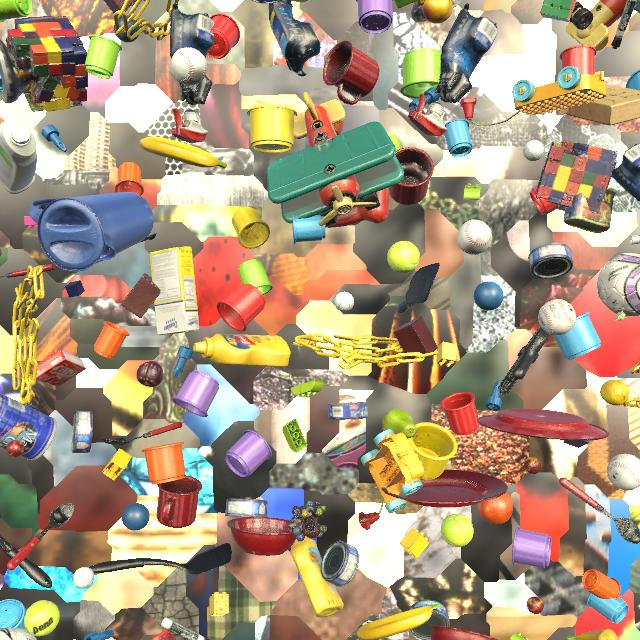ycb_002_master_chef_can: (0, 393, 57, 461), (252, 0, 282, 4)
ycb_004_sugar_box: (149, 247, 200, 335)
ycb_006_mustard_bottle: (290, 536, 344, 617), (193, 333, 291, 367)
ycb_007_tuna_fish_can: (320, 541, 359, 587), (409, 600, 450, 640), (528, 243, 573, 279), (72, 410, 93, 453), (225, 499, 268, 518), (327, 402, 368, 420)
ycb_009_gelatin_box: (31, 349, 86, 387)
ycb_010_potted_meat_can: (564, 188, 616, 233)
ycb_011_banana: (357, 604, 440, 640), (139, 137, 227, 168), (567, 629, 618, 640)
ycb_013_apple: (0, 248, 2, 257)
ycb_014_lemon: (600, 379, 630, 406)
ycb_015_peach: (423, 0, 453, 24)
ycb_016_pear: (382, 409, 417, 439)
ycb_017_orange: (478, 490, 513, 524), (333, 121, 344, 134)
ycb_018_plum: (136, 361, 163, 387)
